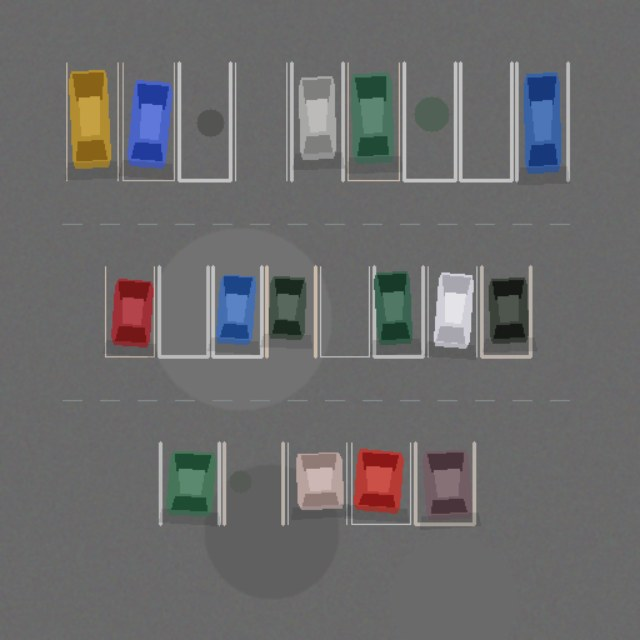space-empty: (179, 62, 230, 180), (235, 62, 286, 180), (404, 62, 455, 180), (460, 62, 511, 180), (224, 443, 283, 524), (159, 266, 208, 356), (320, 266, 369, 356)
space-occupied: (66, 62, 118, 180), (122, 62, 174, 180), (516, 62, 568, 180), (291, 62, 342, 180), (348, 62, 399, 180), (160, 443, 219, 524), (287, 443, 346, 524), (351, 443, 410, 524), (415, 443, 474, 524), (105, 266, 154, 356), (212, 266, 261, 356), (266, 266, 315, 356), (481, 266, 530, 356), (374, 266, 422, 356), (428, 266, 476, 356)
